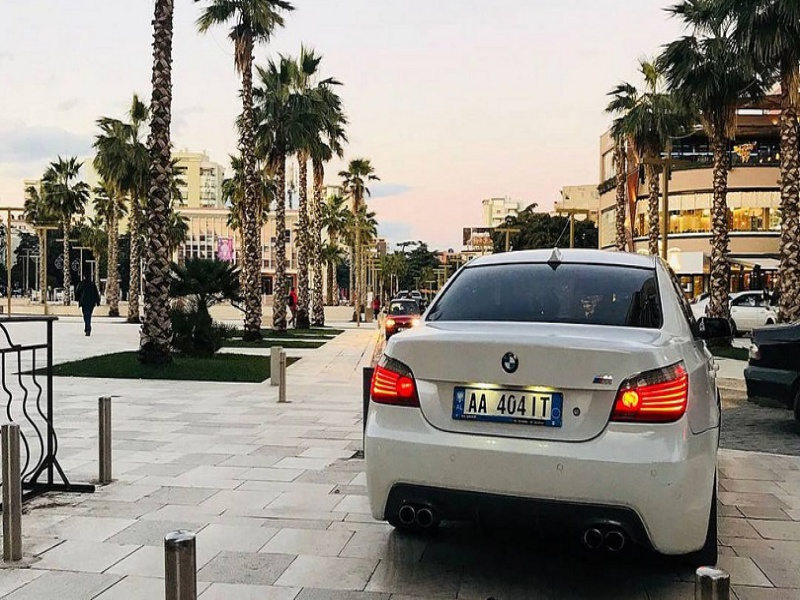licence_plate: (443, 372, 571, 438)
